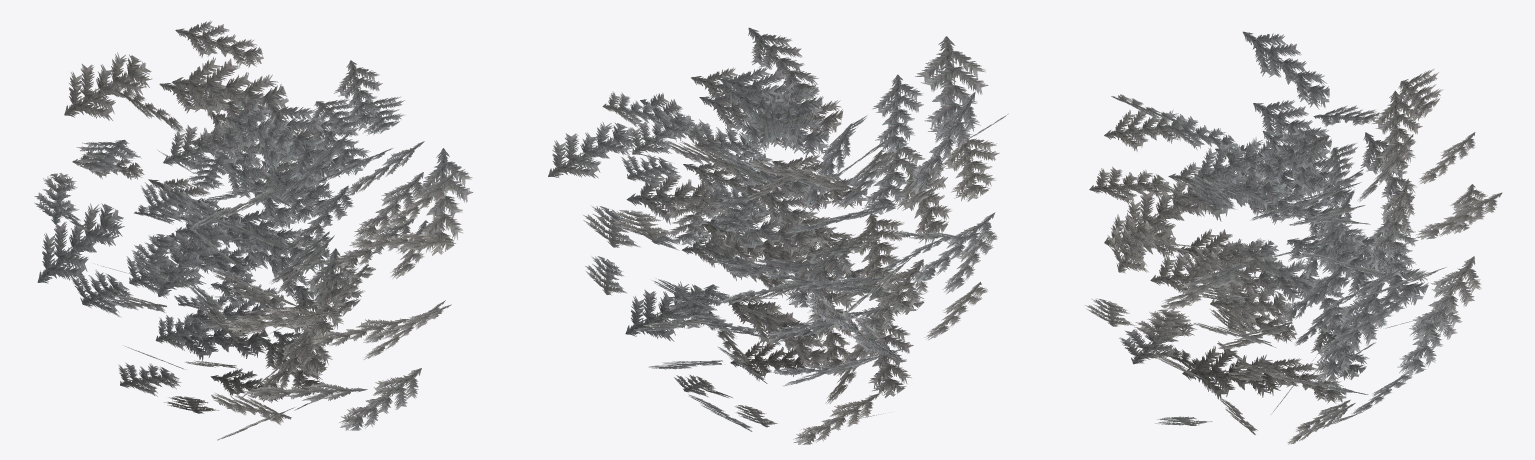
Rendered from pine_l1.gltf.
3 views of the same model, side by side, from view 1: azimuth 30°, elevation 25°; view 2: azimuth 150°, elevation 25°; view 3: azimuth 270°, elevation 25° (orthographic). The views are drawn at different scales.
Visible parts, largest first — view 1: pine_l1; view 2: pine_l1; view 3: pine_l1.
Part boxes in pixels (<box>): pine_l1: <box>34,20,473,440</box>; pine_l1: <box>548,27,1008,444</box>; pine_l1: <box>1084,31,1502,444</box>.
Size of the model in its own units: 7.41 by 6.26 by 7.78.
Materials: 1 (1 with a texture image).
